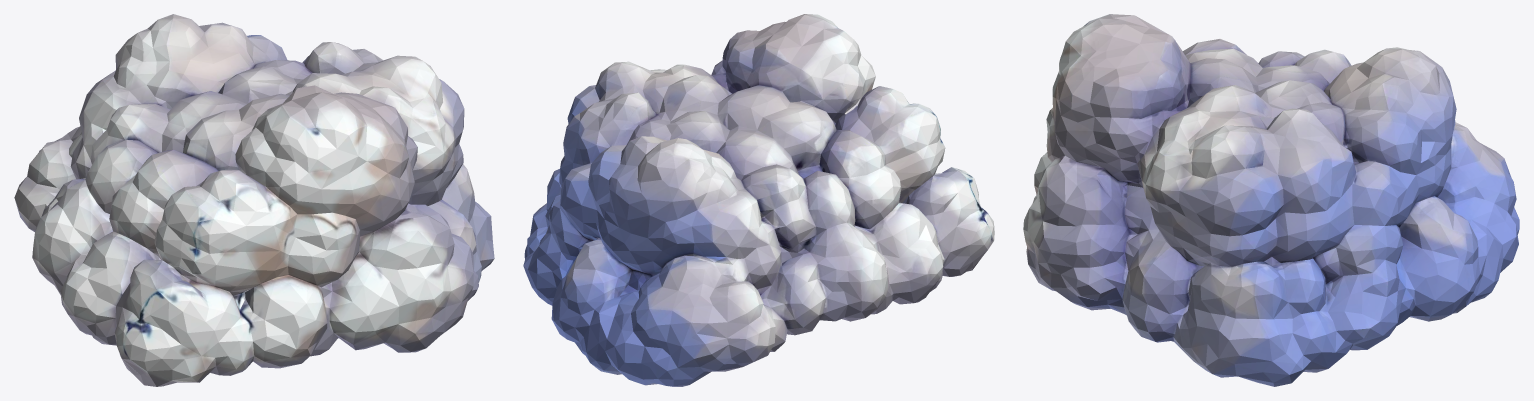
Rendered from cloud.glb.
The picture shows the model from 3 angles, left to right: view 1: azimuth 30°, elevation 25°; view 2: azimuth 150°, elevation 25°; view 3: azimuth 270°, elevation 25°; orthographic projection. The views are drawn at different scales.
Parts seen in each view (by area): view 1: tmpetcbw4p9.ply; view 2: tmpetcbw4p9.ply; view 3: tmpetcbw4p9.ply.
Boxes of the visible parts, box(x1,y1,x2,y2) form: tmpetcbw4p9.ply: box(14, 14, 494, 386); tmpetcbw4p9.ply: box(523, 14, 994, 386); tmpetcbw4p9.ply: box(1023, 14, 1519, 386).
Bounding box in the file's own units: 1.96 × 1.19 × 2.
Materials: 1 (1 with a texture image).
